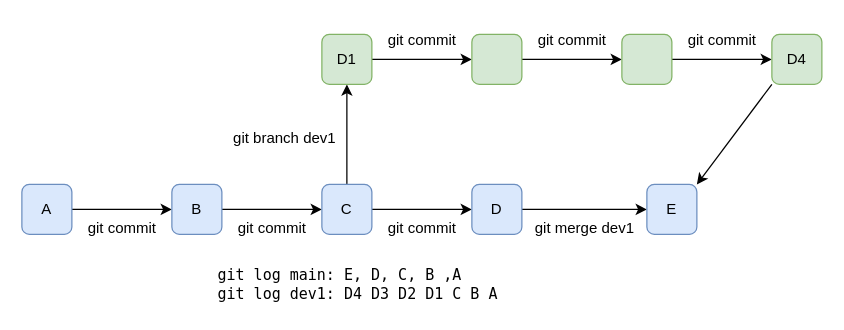
This 844x330 diagram has some shape labels left out. Each missing label, with the centre of its shape:
"D2" belongs at (x=496, y=58).
"D3" belongs at (x=646, y=58).
